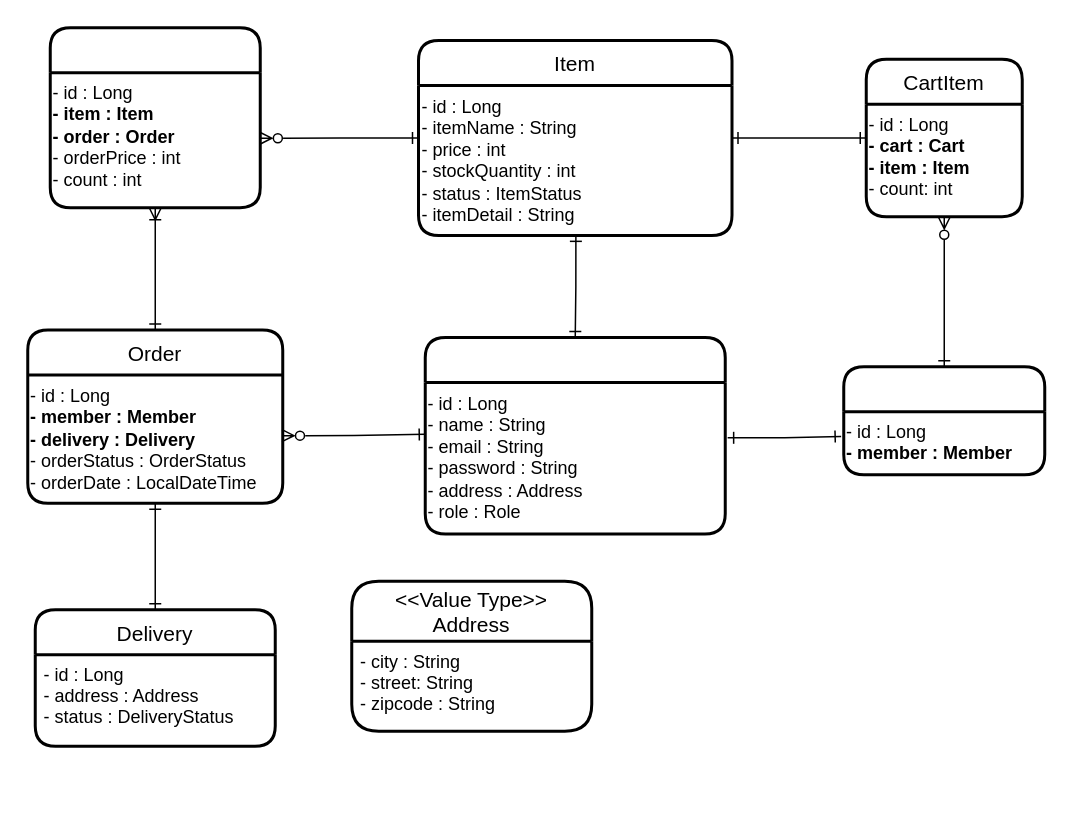
Some shapes in this 1071 by 815 pixel diagram are drawn without their labels. The box of each missing label's shape, as (x1, y1, x2, y2) in pixels:
Cart: (842, 364, 1046, 476)
Member: (423, 335, 726, 535)
OrderItem: (48, 26, 261, 208)
